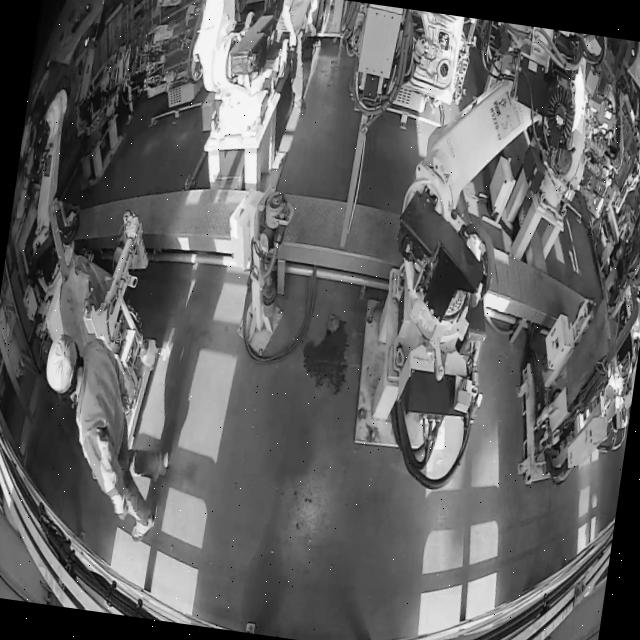Person: (23, 329, 185, 544), (263, 0, 321, 113)
